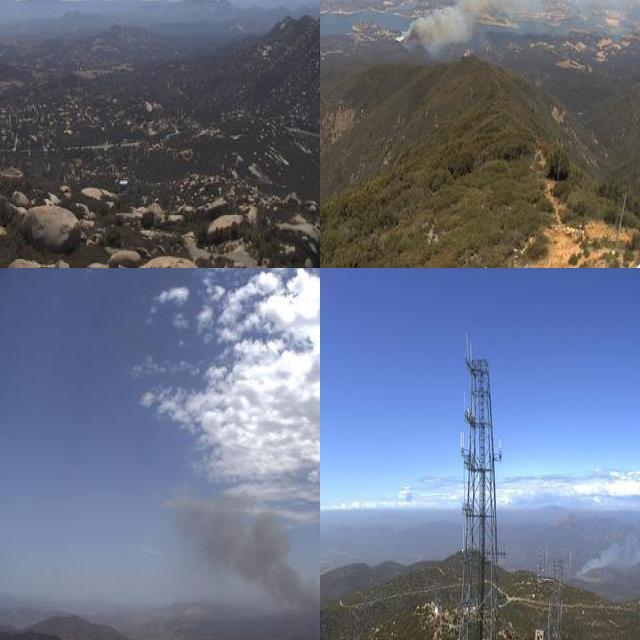smoke: (161, 483, 320, 640), (390, 0, 640, 63), (570, 522, 640, 580)
